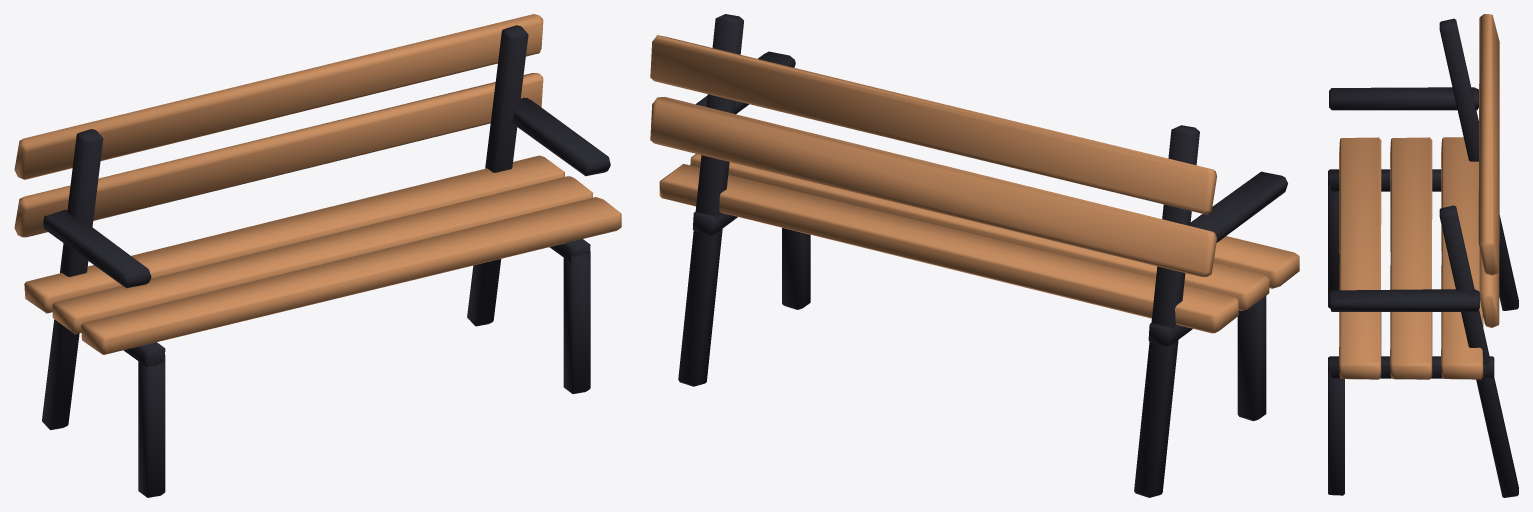
Rendered from bench.glb.
3 renders of one model, left to right at view 1: azimuth 30°, elevation 25°; view 2: azimuth 150°, elevation 25°; view 3: azimuth 270°, elevation 25°, orthographic. The views are drawn at different scales.
Parts seen in each view (by area): view 1: bench; view 2: bench; view 3: bench.
Boxes of the visible parts, <box> form: bench: <box>14,14,621,497</box>; bench: <box>650,14,1299,497</box>; bench: <box>1328,14,1518,497</box>.
Size of the model in its own units: 1.59 by 0.9337 by 0.5613.
1 material, 1 textured.
